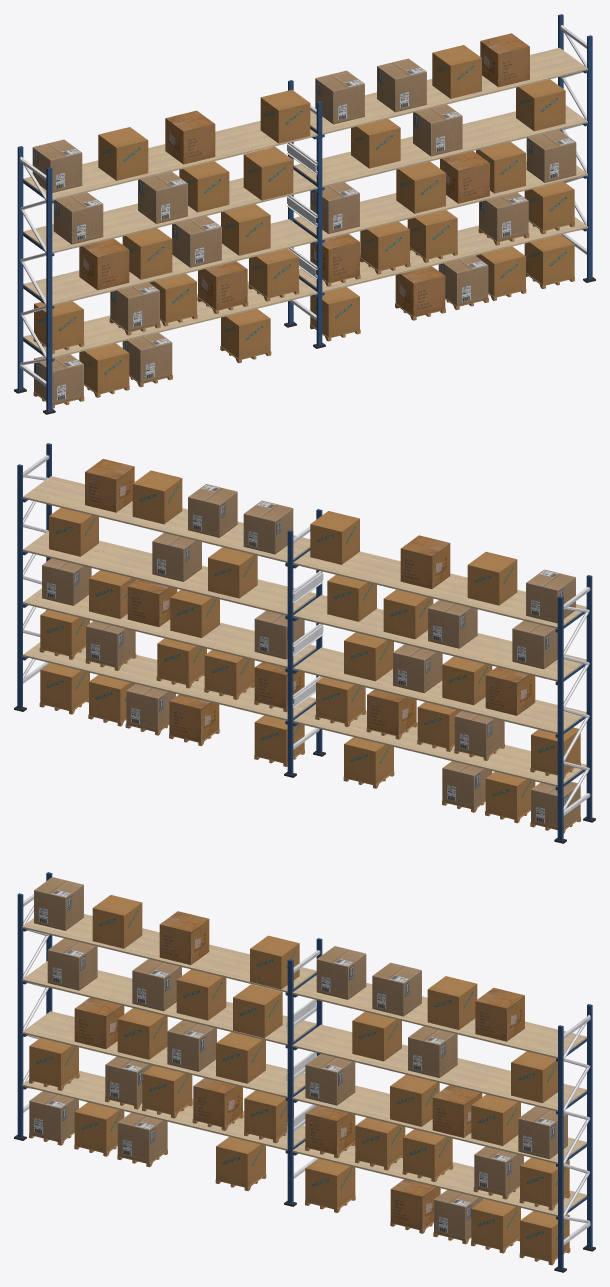
Rendered from BigStorage.glb.
3 renders of one model, top to bottom at view 1: azimuth 30°, elevation 25°; view 2: azimuth 150°, elevation 25°; view 3: azimuth 330°, elevation 25°, orthographic.
Parts seen in each view (by area): view 1: Cardboard_box08, Cardboard_box07, BigShelves01, BigShelvesWoodBox; view 2: BigShelves01, Cardboard_box08, Cardboard_box07, BigShelvesWoodBox; view 3: Cardboard_box08, Cardboard_box07, BigShelves01, BigShelvesWoodBox.
Part boxes in pixels (x1,y1,x2,y2): Cardboard_box08: (34, 45, 574, 393); Cardboard_box07: (32, 33, 576, 404); BigShelves01: (14, 14, 595, 414); BigShelvesWoodBox: (33, 220, 574, 408); BigShelves01: (14, 443, 595, 843); Cardboard_box08: (40, 470, 580, 818); Cardboard_box07: (42, 459, 580, 828); BigShelvesWoodBox: (39, 645, 580, 833); Cardboard_box08: (29, 895, 569, 1261); Cardboard_box07: (29, 877, 567, 1240); BigShelves01: (14, 872, 595, 1272); BigShelvesWoodBox: (29, 1073, 570, 1265).
Size of the model in its own units: 17.75 by 7.59 by 1.82.
Materials: 8 (8 with a texture image).
